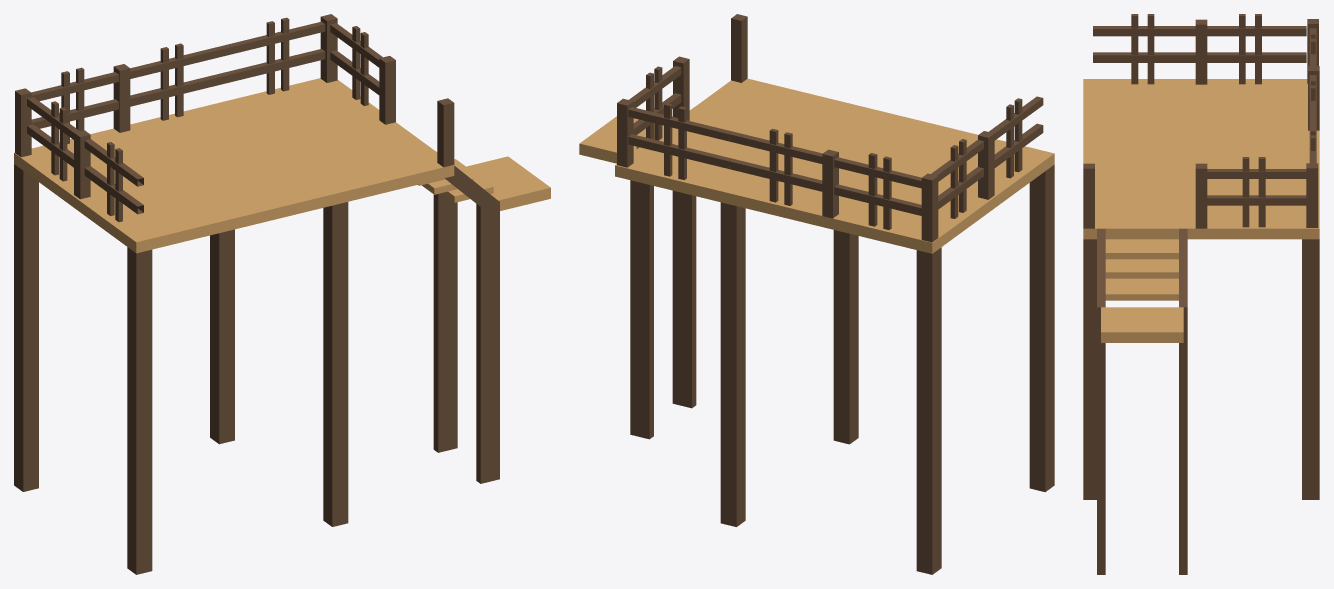
File: GazeboPlatform.fbx
The picture shows the model from 3 angles, left to right: view 1: azimuth 30°, elevation 25°; view 2: azimuth 150°, elevation 25°; view 3: azimuth 270°, elevation 25°; orthographic projection. The views are drawn at different scales.
Parts seen in each view (by area): view 1: GazeboPlatform; view 2: GazeboPlatform; view 3: GazeboPlatform.
Boxes of the visible parts, x1=… form: GazeboPlatform: x1=14, y1=14, x2=550, y2=574; GazeboPlatform: x1=579, y1=14, x2=1054, y2=574; GazeboPlatform: x1=1083, y1=14, x2=1319, y2=574.
Size of the model in its own units: 400 by 364 by 200.
